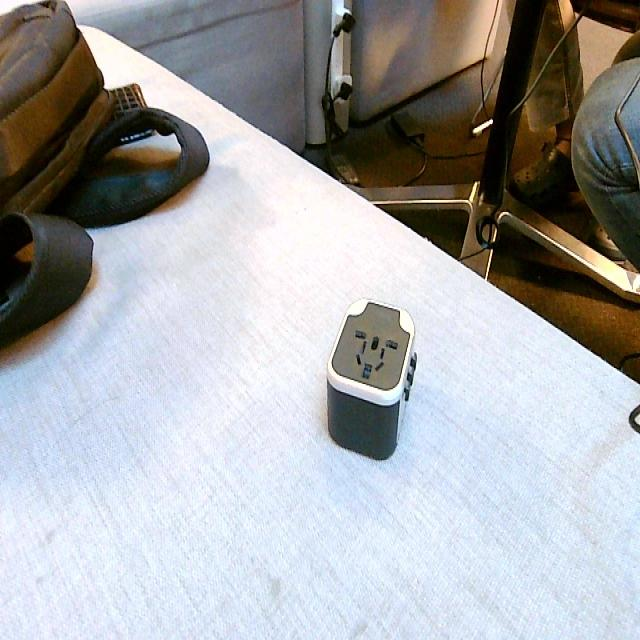adapter: (325, 296, 417, 460)
